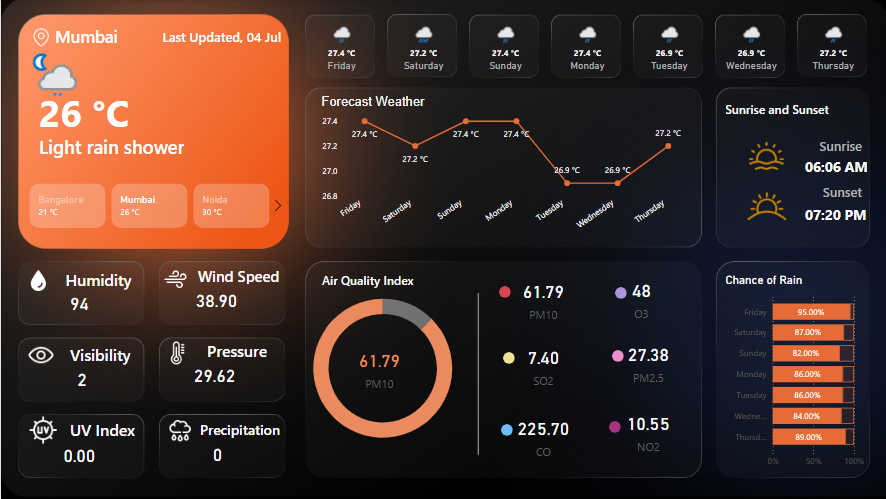

This screenshot's page, from the dashboard's own definition file:
{"tool":"powerbi","page":{"name":"Page 1","canvas":[1280,720],"ordinal":0},"visuals":[{"type":"advancedSlicerVisual","fields":{"Values":["Location.location.name"]},"box":[16,260,398,74],"z":0},{"type":"shape","box":[54,88,214,148],"z":1000},{"type":"shape","box":[54,162,376,98],"z":2000},{"type":"shape","box":[78,10,188,86],"z":3000},{"type":"shape","box":[100,26,304,56],"z":4000},{"type":"image","box":[16,38,84,36],"z":5000},{"type":"cardVisual","fields":{"Data":["Min(Current.current.condition.icon)"]},"box":[16.2,56.2,117.5,88.8],"z":6000},{"type":"image","box":[15.8,384.5,76.3,41.8],"z":7000},{"type":"image","box":[200,382,102,44],"z":8000},{"type":"image","box":[6,594,110,52],"z":9000},{"type":"image","box":[216,598,84,48],"z":10000},{"type":"image","box":[218.9,488.2,70.6,43.2],"z":11000},{"type":"image","box":[22,486,72,52],"z":12000},{"type":"shape","box":[80.6,381.6,119.5,43.2],"z":13000},{"type":"shape","box":[269.3,384.5,145.4,25.9],"z":14000},{"type":"shape","box":[100,490,120,44],"z":15000},{"type":"shape","box":[296.6,483.8,108,43.2],"z":16000},{"type":"shape","box":[286.6,593.3,169.9,51.8],"z":17000},{"type":"shape","box":[100,598,120,44],"z":18000},{"type":"card","fields":{"Values":["Sum(Current.current.humidity)"]},"box":[10.1,410.4,205.9,56.2],"z":19000},{"type":"card","fields":{"Values":["Sum(Current.current.wind_kph)"]},"box":[216,406.1,188.6,56.2],"z":20000},{"type":"card","fields":{"Values":["Sum(Current.current.vis_km)"]},"box":[12.9,520,207.1,54.3],"z":21000},{"type":"card","fields":{"Values":["Sum(Current.current.pressure_in)"]},"box":[204.5,514.1,205.9,56.2],"z":22000},{"type":"card","fields":{"Values":["Sum(Current.current.uv)"]},"box":[10,628.6,205.7,55.7],"z":23000},{"type":"card","fields":{"Values":["Sum(Current.current.precip_in)"]},"box":[208.8,627.8,205.9,54.7],"z":24000},{"type":"advancedSlicerVisual","fields":{"Values":["Forecast_days.Day_Name"]},"box":[430,25,828.8,97.5],"z":25000},{"type":"lineChart","title":"Forecast Weather","fields":{"Y":["Sum(Forecast_days.forecast.forecastday.day.avgtemp_c)"],"Category":["Forecast_days.Day_Name"]},"box":[456.5,136.8,538.6,210.2],"z":26000},{"type":"shape","box":[995,136.8,244.8,43.2],"z":27000},{"type":"shape","box":[1157.8,204.5,122.4,73.4],"z":28000},{"type":"shape","box":[1157.6,252,122.4,115.2],"z":29000},{"type":"shape","box":[1103,190.1,136.8,43.2],"z":30000},{"type":"shape","box":[1077.1,256.3,162.7,43.2],"z":31000},{"type":"image","box":[1048.3,195.8,108,60.5],"z":32000},{"type":"image","box":[1059.8,256.3,86.4,83.5],"z":33000},{"type":"hundredPercentStackedBarChart","title":"   Chance of Rain","fields":{"Y":["Sum(Forecast_days.forecast.forecastday.day.daily_chance_of_rain)","_Measure.Left_value_Rain"],"Category":["Forecast_days.Day_Name"]},"box":[1038,395,210,289],"z":34000},{"type":"shape","box":[405.7,382.9,244.3,42.9],"z":34001},{"type":"card","fields":{"Values":["Sum(Current.current.air_quality.o3)"]},"box":[817.1,382.9,211.4,94.3],"z":34002},{"type":"card","fields":{"Values":["Sum(Current.current.air_quality.pm2_5)"]},"box":[827.1,475.7,211.4,94.3],"z":34003},{"type":"card","fields":{"Values":["Sum(Current.current.air_quality.no2)"]},"box":[827.1,574.3,211.4,94.3],"z":34004},{"type":"card","fields":{"Values":["Sum(Current.current.air_quality.pm10)"]},"box":[675.7,384.3,211.4,94.3],"z":34005},{"type":"card","fields":{"Values":["Sum(Current.current.air_quality.so2)"]},"box":[675.7,480,211.4,94.3],"z":34006},{"type":"card","fields":{"Values":["Sum(Current.current.air_quality.co)"]},"box":[675.7,581.4,211.4,94.3],"z":34007},{"type":"shape","box":[717.1,412.9,17.1,17.1],"z":34008},{"type":"shape","box":[722.9,508.6,17.1,17.1],"z":34009},{"type":"shape","box":[720,611.4,17.1,17.1],"z":34010},{"type":"shape","box":[875.7,607.1,17.1,17.1],"z":34011},{"type":"shape","box":[880,505.7,17.1,17.1],"z":34012},{"type":"shape","box":[884.3,414.3,17.1,17.1],"z":34013},{"type":"shape","box":[567.1,422.9,240,232.9],"z":34014},{"type":"card","fields":{"Values":["Sum(Current.current.air_quality.pm10)"]},"box":[438.6,484.3,211.4,94.3],"z":34015},{"type":"donutChart","fields":{"Y":["Sum(Current.current.air_quality.pm10)","_Measure.Left_value_pm10"]},"box":[414.3,401.4,270,260],"z":34016}]}

Visuals, with their boxes in screenshot pixels (x1, y1, x2, y2), scaled from the page's 1280x720 canvas onto the 886x499 screenshot:
advancedSlicerVisual - Location.location.name: [x1=11, y1=180, x2=287, y2=231]
shape: [x1=37, y1=61, x2=186, y2=164]
shape: [x1=37, y1=112, x2=298, y2=180]
shape: [x1=54, y1=7, x2=184, y2=67]
shape: [x1=69, y1=18, x2=280, y2=57]
image: [x1=11, y1=26, x2=69, y2=51]
cardVisual - Min(Current.current.condition.icon): [x1=11, y1=39, x2=93, y2=100]
image: [x1=11, y1=266, x2=64, y2=295]
image: [x1=138, y1=265, x2=209, y2=295]
image: [x1=4, y1=412, x2=80, y2=448]
image: [x1=150, y1=414, x2=208, y2=448]
image: [x1=152, y1=338, x2=200, y2=368]
image: [x1=15, y1=337, x2=65, y2=373]
shape: [x1=56, y1=264, x2=139, y2=294]
shape: [x1=186, y1=266, x2=287, y2=284]
shape: [x1=69, y1=340, x2=152, y2=370]
shape: [x1=205, y1=335, x2=280, y2=365]
shape: [x1=198, y1=411, x2=316, y2=447]
shape: [x1=69, y1=414, x2=152, y2=445]
card - Sum(Current.current.humidity): [x1=7, y1=284, x2=150, y2=323]
card - Sum(Current.current.wind_kph): [x1=150, y1=281, x2=280, y2=320]
card - Sum(Current.current.vis_km): [x1=9, y1=360, x2=152, y2=398]
card - Sum(Current.current.pressure_in): [x1=142, y1=356, x2=284, y2=395]
card - Sum(Current.current.uv): [x1=7, y1=436, x2=149, y2=474]
card - Sum(Current.current.precip_in): [x1=145, y1=435, x2=287, y2=473]
advancedSlicerVisual - Forecast_days.Day_Name: [x1=298, y1=17, x2=871, y2=85]
"Forecast Weather" lineChart: [x1=316, y1=95, x2=689, y2=240]
shape: [x1=689, y1=95, x2=858, y2=125]
shape: [x1=801, y1=142, x2=885, y2=193]
shape: [x1=801, y1=175, x2=885, y2=254]
shape: [x1=763, y1=132, x2=858, y2=162]
shape: [x1=746, y1=178, x2=858, y2=208]
image: [x1=726, y1=136, x2=800, y2=178]
image: [x1=734, y1=178, x2=793, y2=236]
"   Chance of Rain" hundredPercentStackedBarChart: [x1=718, y1=274, x2=864, y2=474]
shape: [x1=281, y1=265, x2=450, y2=295]
card - Sum(Current.current.air_quality.o3): [x1=566, y1=265, x2=712, y2=331]
card - Sum(Current.current.air_quality.pm2_5): [x1=573, y1=330, x2=719, y2=395]
card - Sum(Current.current.air_quality.no2): [x1=573, y1=398, x2=719, y2=463]
card - Sum(Current.current.air_quality.pm10): [x1=468, y1=266, x2=614, y2=332]
card - Sum(Current.current.air_quality.so2): [x1=468, y1=333, x2=614, y2=398]
card - Sum(Current.current.air_quality.co): [x1=468, y1=403, x2=614, y2=468]
shape: [x1=496, y1=286, x2=508, y2=298]
shape: [x1=500, y1=352, x2=512, y2=364]
shape: [x1=498, y1=424, x2=510, y2=436]
shape: [x1=606, y1=421, x2=618, y2=433]
shape: [x1=609, y1=350, x2=621, y2=362]
shape: [x1=612, y1=287, x2=624, y2=299]
shape: [x1=393, y1=293, x2=559, y2=455]
card - Sum(Current.current.air_quality.pm10): [x1=304, y1=336, x2=450, y2=401]
donutChart - Sum(Current.current.air_quality.pm10) x _Measure.Left_value_pm10: [x1=287, y1=278, x2=474, y2=458]
